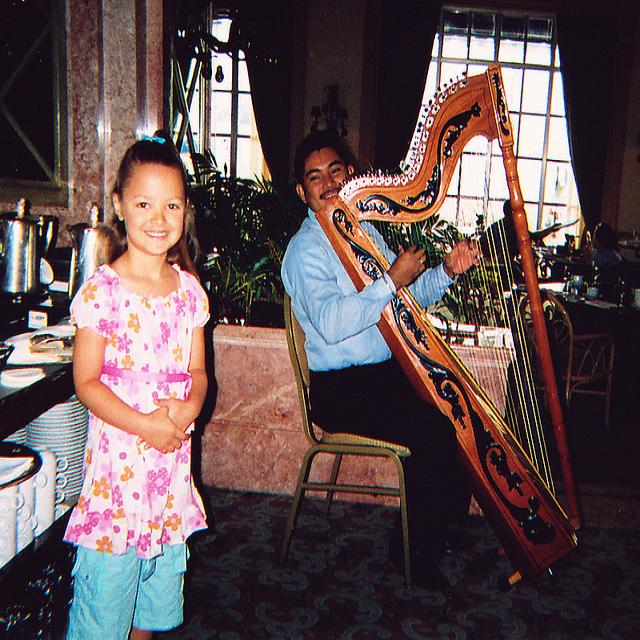harp: (309, 61, 592, 592)
